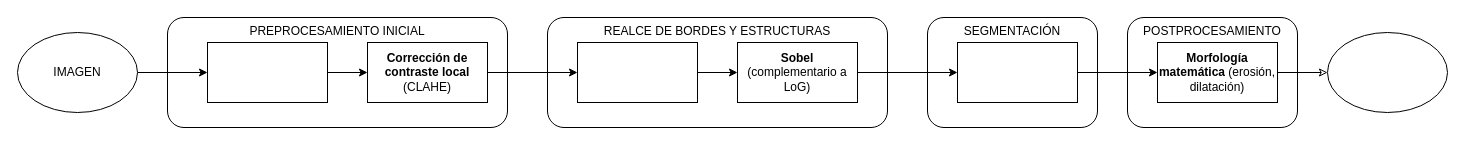
This 1465x145 diagram has some shape labels left out. The centre of each missing label's shape, as x and y in pixels:
Conversión a escala de grises: [267,72]
Filtro Laplaciano o Laplacian of Gaussian (LoG): [637,72]
SALIDA: [1387,72]
Umbral adaptativo (Adaptive Thresholding): [1017,72]
